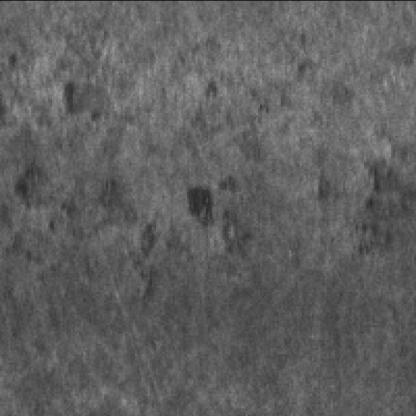rolled-in_scale: (304, 125, 412, 266)
